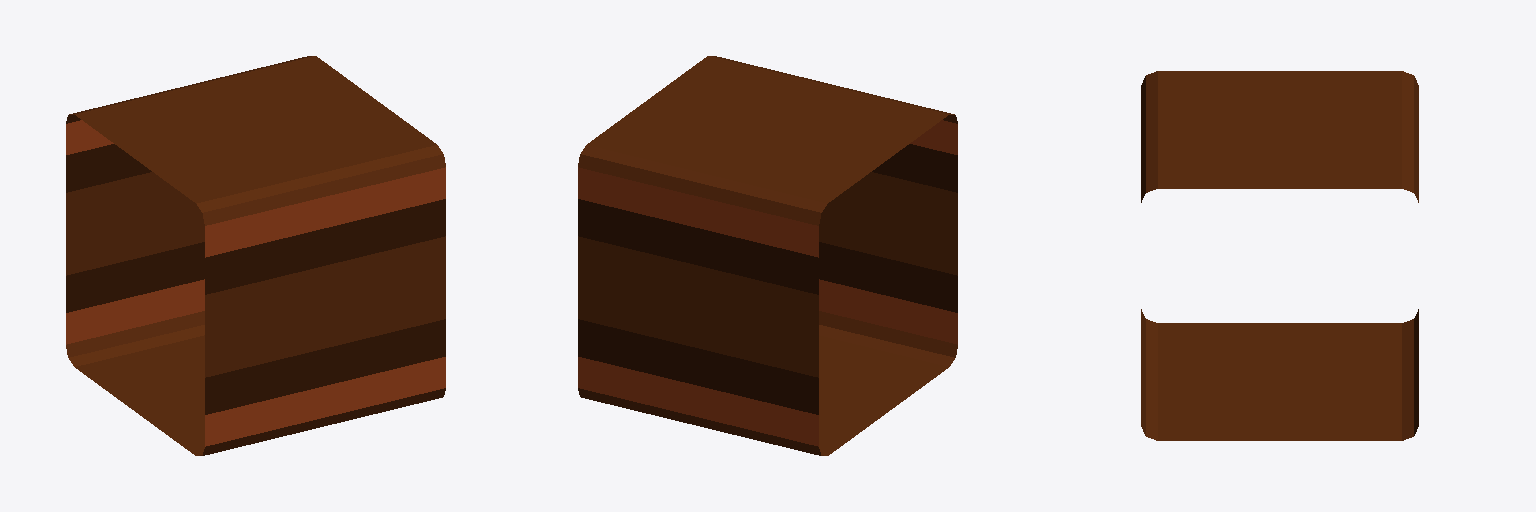
File: Cube_Dirt_1x1Center.obj
The picture shows the model from 3 angles: view 1: azimuth 30°, elevation 25°; view 2: azimuth 150°, elevation 25°; view 3: azimuth 270°, elevation 25°; orthographic projection.
Visible parts, largest first — view 1: Cube_Dirt_1x1Center_Cube.047; view 2: Cube_Dirt_1x1Center_Cube.047; view 3: Cube_Dirt_1x1Center_Cube.047.
Part boxes in pixels (x1,y1,x2,y2): Cube_Dirt_1x1Center_Cube.047: (66, 56, 445, 455); Cube_Dirt_1x1Center_Cube.047: (578, 56, 957, 455); Cube_Dirt_1x1Center_Cube.047: (1141, 71, 1418, 440).
Bounding box in the file's own units: 2 × 2 × 2.